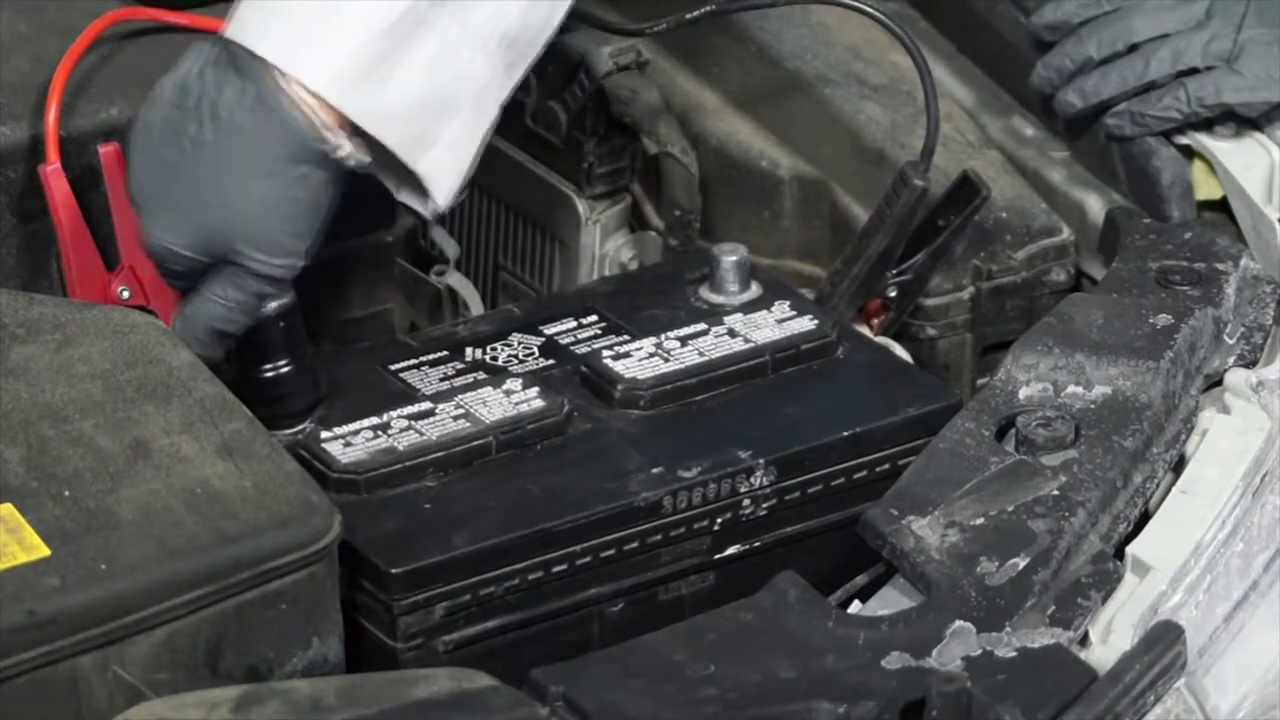battery: (203, 238, 924, 501)
neg_disconnected: (667, 207, 793, 332)
pos_touched: (40, 192, 331, 418)
